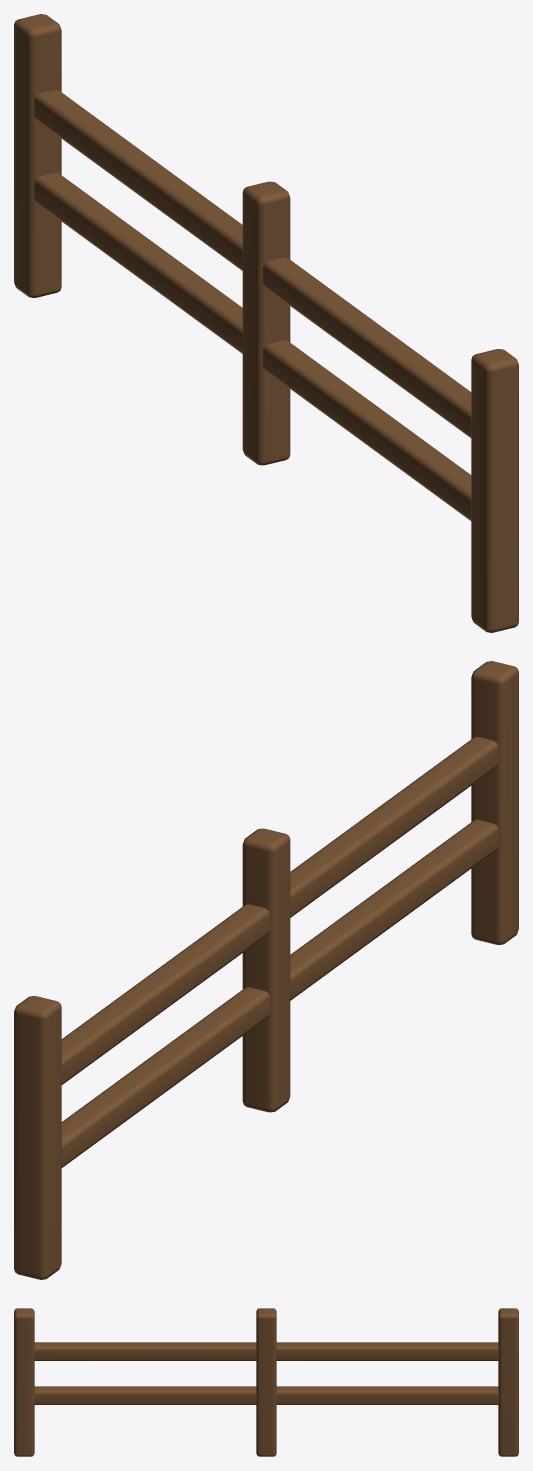
Rendered from SM_Fence_4m.fbx.
The picture shows the model from 3 angles, top to bottom: view 1: azimuth 30°, elevation 25°; view 2: azimuth 150°, elevation 25°; view 3: azimuth 270°, elevation 25°; orthographic projection. The views are drawn at different scales.
Parts seen in each view (by area): view 1: Fence rail.001, Fence rail, Fence stake, Fence stake.001, Fence stake.002; view 2: Fence rail.001, Fence rail, Fence stake.002, Fence stake.001, Fence stake; view 3: Fence rail, Fence rail.001, Fence stake.001, Fence stake, Fence stake.002.
Boxes of the visible parts, x1=… form: Fence rail.001: x1=34, y1=90, x2=471, y2=437; Fence rail: x1=34, y1=172, x2=471, y2=520; Fence stake: x1=471, y1=349, x2=518, y2=632; Fence stake.001: x1=242, y1=181, x2=290, y2=465; Fence stake.002: x1=14, y1=14, x2=61, y2=297; Fence rail.001: x1=61, y1=737, x2=498, y2=1084; Fence rail: x1=61, y1=819, x2=498, y2=1167; Fence stake.002: x1=14, y1=996, x2=61, y2=1279; Fence stake.001: x1=242, y1=828, x2=290, y2=1112; Fence stake: x1=471, y1=661, x2=518, y2=944; Fence rail: x1=34, y1=1386, x2=498, y2=1404; Fence rail.001: x1=34, y1=1342, x2=498, y2=1360; Fence stake.001: x1=256, y1=1308, x2=276, y2=1456; Fence stake: x1=14, y1=1308, x2=34, y2=1456; Fence stake.002: x1=498, y1=1308, x2=518, y2=1456.
Size of what is drawn, in the model's own units: 17 by 130 by 417.
